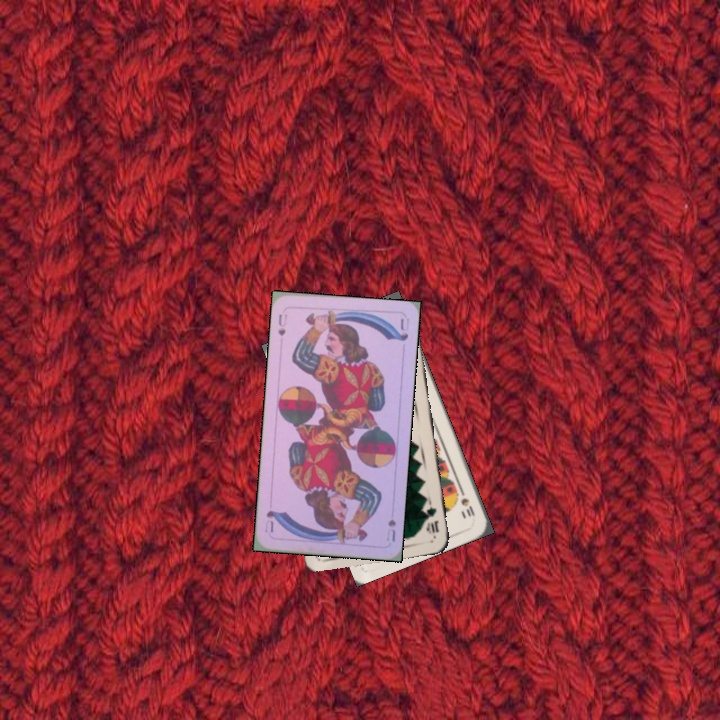G10: (422, 503, 441, 536)
S10: (456, 484, 477, 519)
SU: (382, 515, 398, 544), (274, 310, 290, 339)
